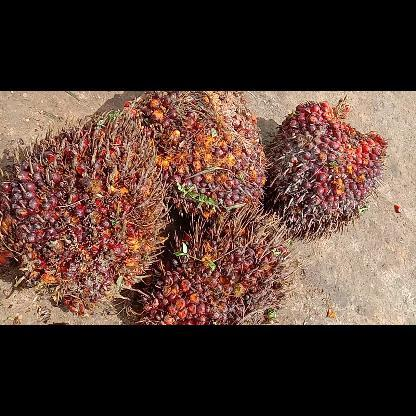TBS masak: (0, 108, 171, 313), (140, 206, 298, 324), (266, 98, 388, 240), (134, 90, 268, 218)
